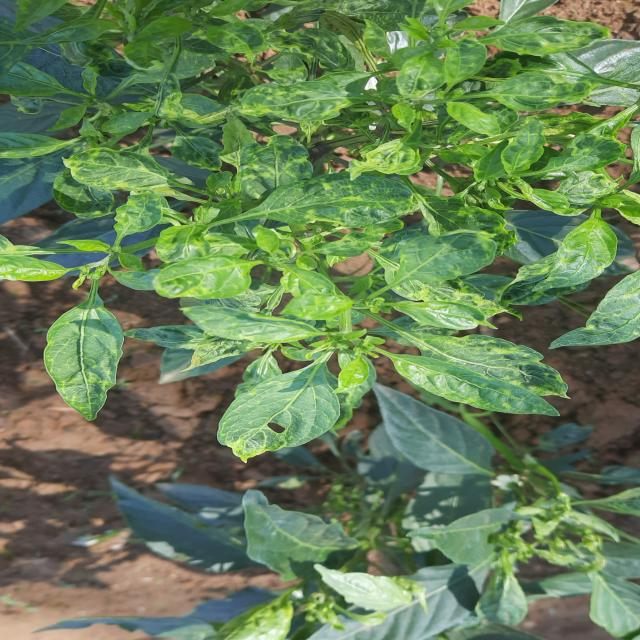thrips: (381, 340, 569, 422), (57, 140, 222, 210), (285, 173, 455, 232), (199, 306, 336, 355)
